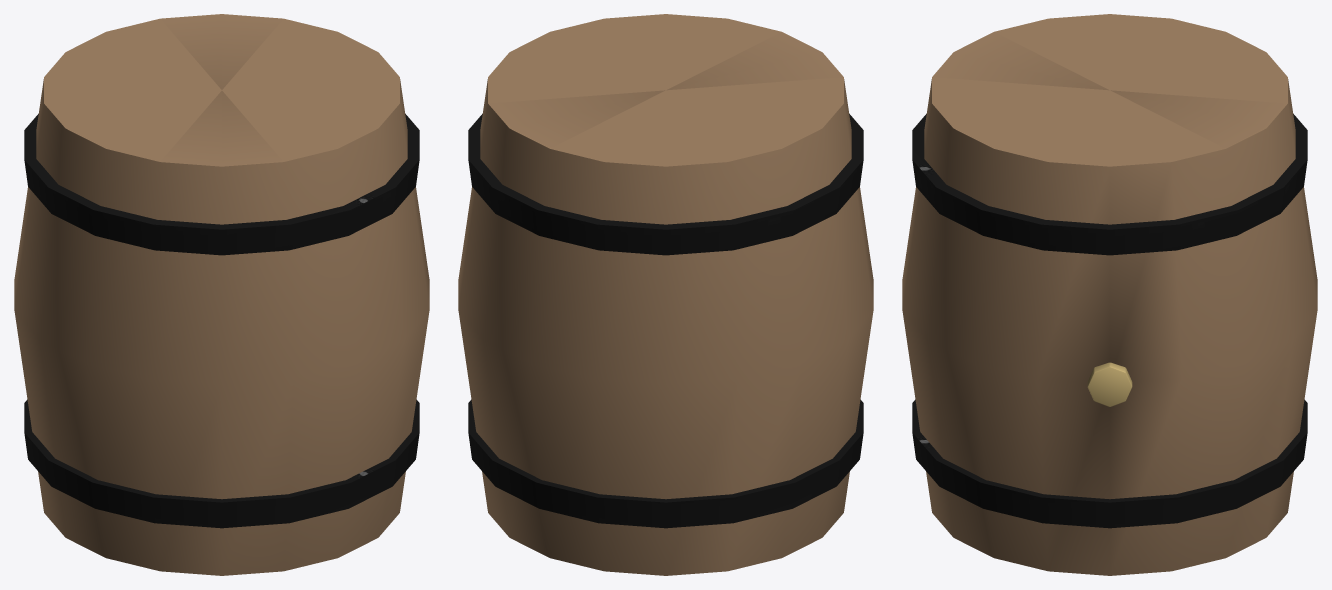
Rendered from barrel.glb.
The picture shows the model from 3 angles, left to right: view 1: azimuth 30°, elevation 25°; view 2: azimuth 150°, elevation 25°; view 3: azimuth 270°, elevation 25°; orthographic projection.
Visible parts, largest first — view 1: boat_oak, boat_iron; view 2: boat_oak, boat_iron; view 3: boat_oak, boat_iron, boat_brass2.
Boxes of the visible parts, x1,y1,x2,y2 form: boat_oak: [14, 14, 429, 575]; boat_iron: [24, 114, 419, 528]; boat_oak: [458, 14, 873, 575]; boat_iron: [468, 114, 863, 528]; boat_oak: [902, 14, 1317, 575]; boat_iron: [912, 114, 1307, 528]; boat_brass2: [1087, 362, 1132, 406].
Size of the model in its own units: 0.57 by 0.6 by 0.5515.
3 materials, 1 textured.
